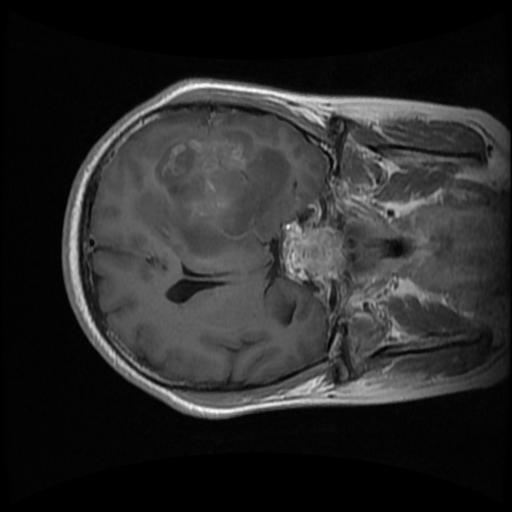glioma: (137, 126, 300, 258)
